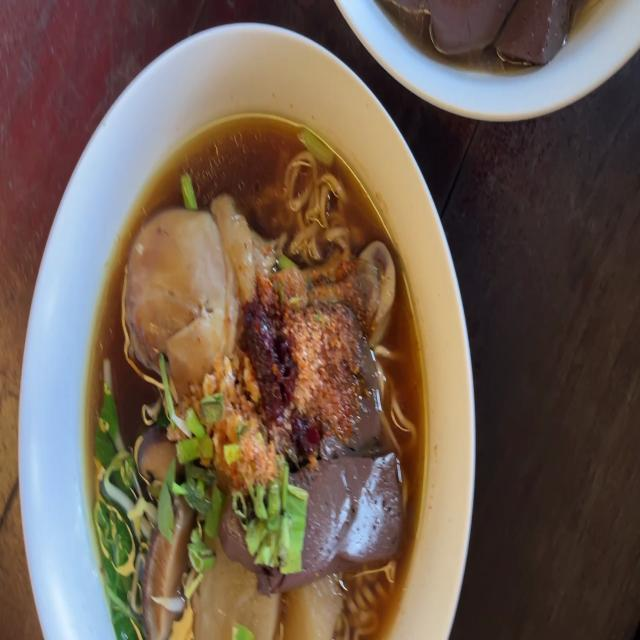noodle: (101, 194, 416, 640)
